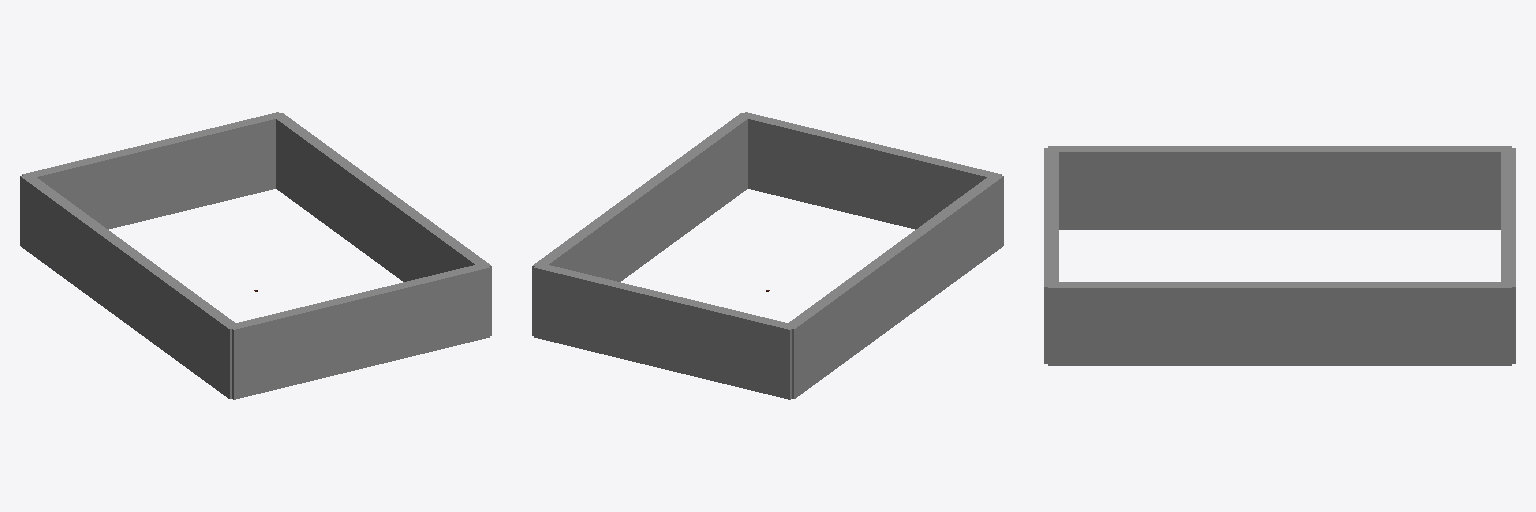
robot.urdf — wicker_tray:
<robot name="wicker_tray">
  <link name="wicker_tray">
    <collision>
      <geometry>
        <mesh filename="wicker_tray_collision.stl" />
      </geometry>
    </collision>
    <visual>
      <geometry>
        <mesh filename="wicker_tray_visual.dae" />
      </geometry>
    </visual>
    <collision>
      <origin xyz="0 -0.32 0.06" />
      <geometry>
        <box size="0.46 0.02 0.12" />
      </geometry>
    </collision>
    <visual>
      <origin xyz="0 -0.32 0.06" />
      <material name="c">
        <color rgba="0.6 0.6 0.6 1." />
      </material>
      <geometry>
        <box size="0.46 0.02 0.12" />
      </geometry>
    </visual>
    <collision>
      <origin xyz="0 0.32 0.06" />
      <geometry>
        <box size="0.46 0.02 0.12" />
      </geometry>
    </collision>
    <visual>
      <origin xyz="0 0.32 0.06" />
      <material name="c">
        <color rgba="0.6 0.6 0.6 1.0" />
      </material>
      <geometry>
        <box size="0.46 0.02 0.12" />
      </geometry>
    </visual>
    <collision>
      <origin xyz="0.225 0 0.06" />
      <geometry>
        <box size="0.02 0.65 0.12" />
      </geometry>
    </collision>
    <visual>
      <origin xyz="0.225 0 0.06" />
      <material name="c">
        <color rgba="0.6 0.6 0.6 1.0" />
      </material>
      <geometry>
        <box size="0.02 0.65 0.12" />
      </geometry>
    </visual>
    <collision>
      <origin xyz="-0.225 0 0.06" />
      <geometry>
        <box size="0.02 0.65 0.12" />
      </geometry>
    </collision>
    <visual>
      <origin xyz="-0.225 0 0.06" />
      <material name="c">
        <color rgba="0.6 0.6 0.6 1.0" />
      </material>
      <geometry>
        <box size="0.02 0.65 0.12" />
      </geometry>
    </visual>
  </link>
</robot>

--- Render facts (derived) ---
3 views of the same robot in one strip: view 1: azimuth 30°, elevation 25°; view 2: azimuth 150°, elevation 25°; view 3: azimuth 270°, elevation 25° (orthographic).
Model wicker_tray with 1 links and 0 joints (none), rooted at wicker_tray, posed every joint at zero.
Visible links, largest first — view 1: wicker_tray; view 2: wicker_tray; view 3: wicker_tray.
Link boxes in pixels (x1,y1,x2,y2): wicker_tray: [20, 112, 491, 399]; wicker_tray: [532, 112, 1003, 399]; wicker_tray: [1044, 146, 1515, 365].
Bounding box of the posed robot: 0.47 × 0.66 × 0.12 m (x, y, z).
Meshes: 1 distinct files referenced, 1 mesh visuals loaded (1 Collada DAE).